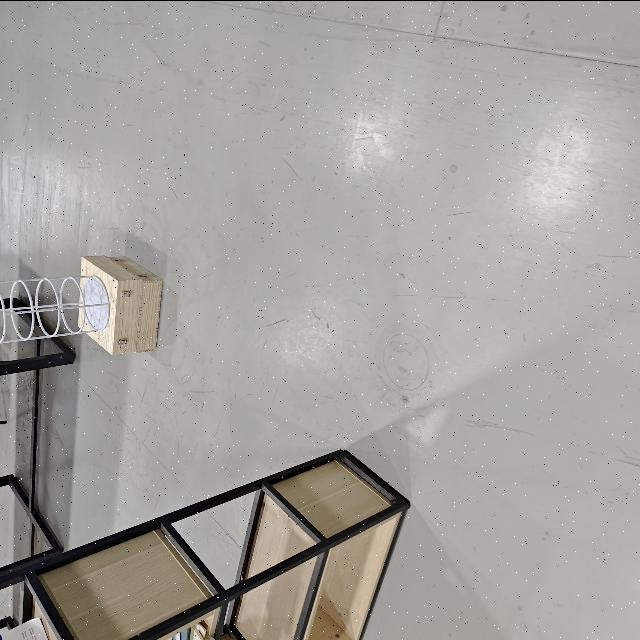S: (0, 274, 110, 342)
